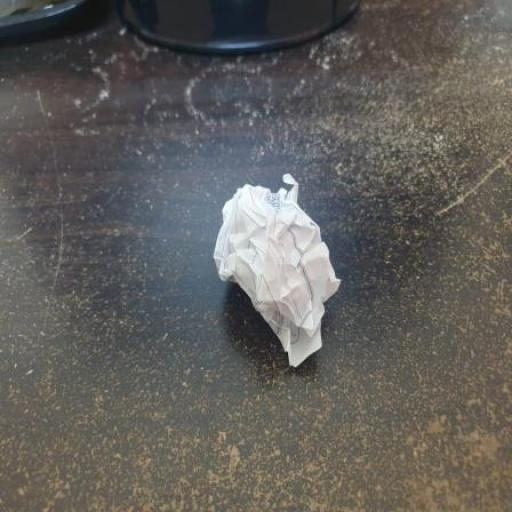paper: (147, 112, 415, 456)
